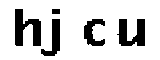c: (81, 14, 106, 46)
h: (12, 5, 40, 49)
j: (41, 4, 69, 60)
u: (116, 17, 148, 51)
